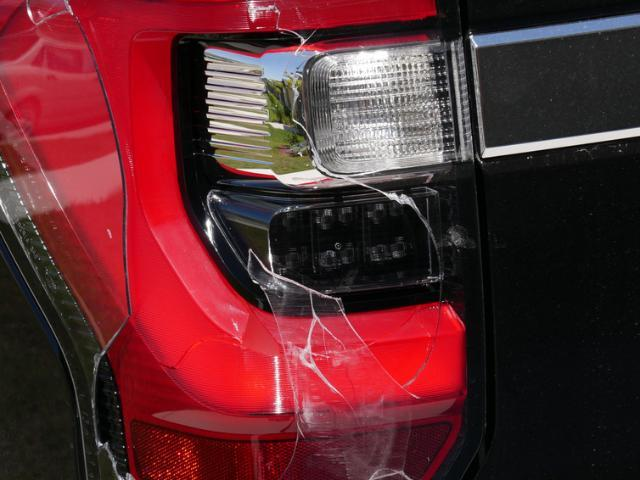Light: (176, 34, 472, 282)
